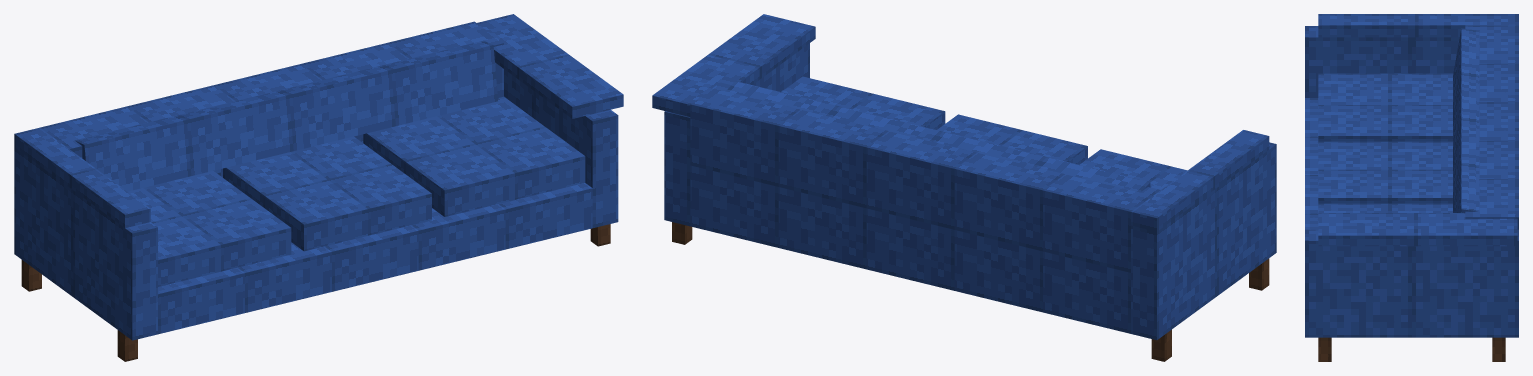
Rendered from loungeCouchWide_9.glb.
3 renders of one model, left to right at view 1: azimuth 30°, elevation 25°; view 2: azimuth 150°, elevation 25°; view 3: azimuth 270°, elevation 25°, orthographic. The views are drawn at different scales.
Visible parts, largest first — view 1: loungeCouchWide_9; view 2: loungeCouchWide_9; view 3: loungeCouchWide_9.
Boxes of the visible parts, x1,y1,x2,y2 form: loungeCouchWide_9: [14, 14, 623, 361]; loungeCouchWide_9: [652, 14, 1276, 361]; loungeCouchWide_9: [1305, 14, 1518, 361].
Bounding box in the file's own units: 2.44 × 0.7008 × 1.
Materials: 1 (1 with a texture image).
